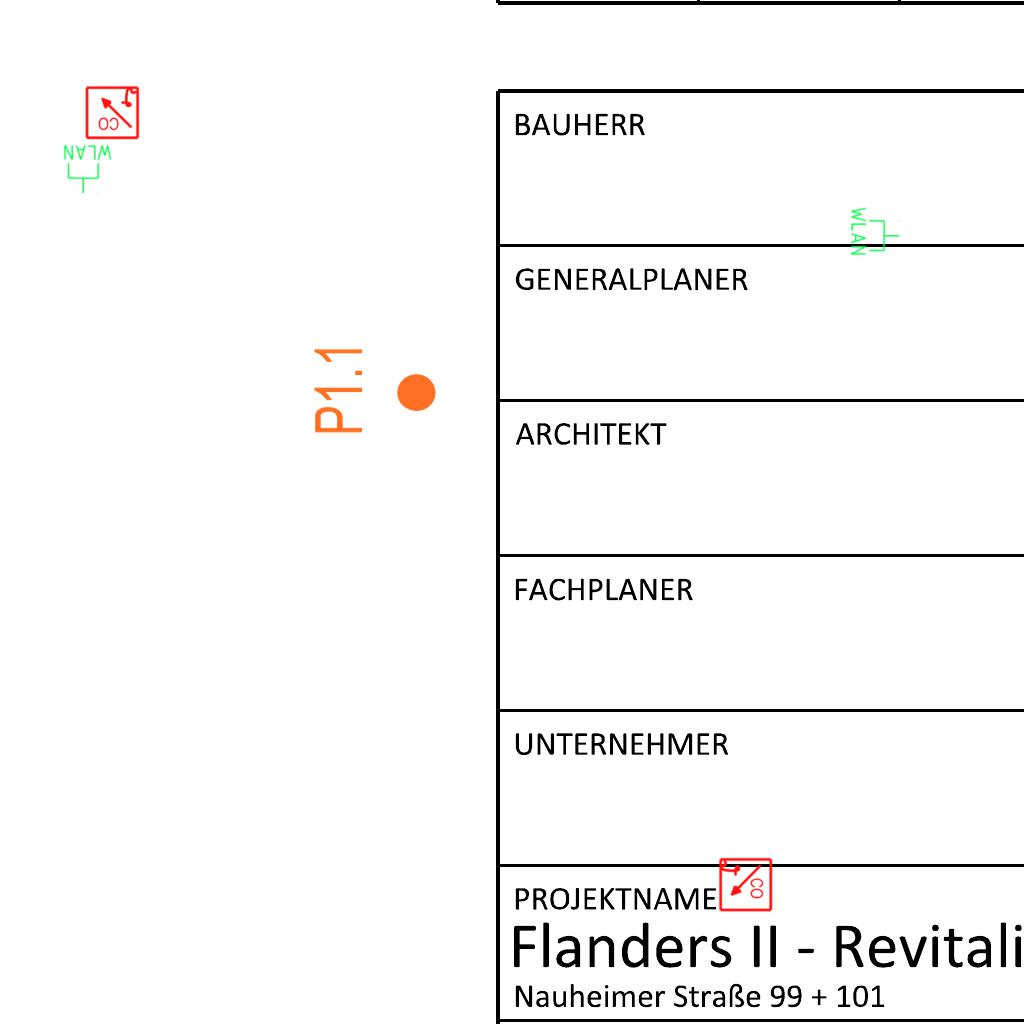Downlight_LED_Einbauleuchten_Flur: (311, 343, 439, 436)
ROA_Rauchmelder_optisch_mit_Signalgeber_(Sockelsirene): (717, 857, 773, 913), (84, 84, 140, 140)
WLAN: (849, 205, 901, 257), (62, 143, 114, 195)
